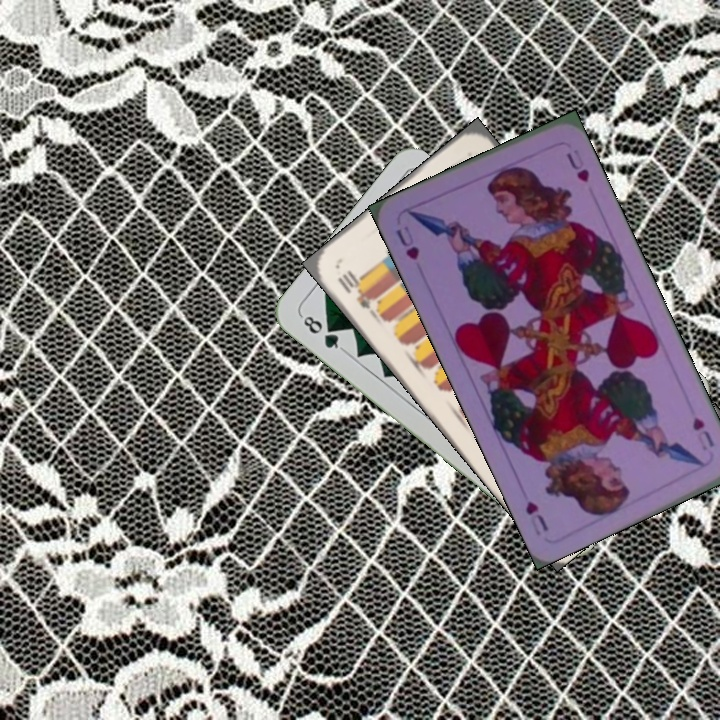E10: (333, 266, 376, 312)
G8: (297, 311, 347, 353)
HU: (392, 221, 422, 263), (688, 412, 717, 454)
